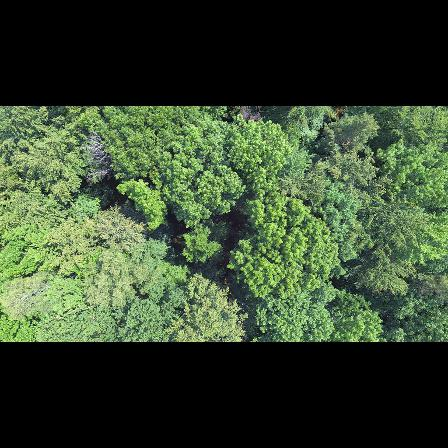Dead: (81, 129, 114, 185)
